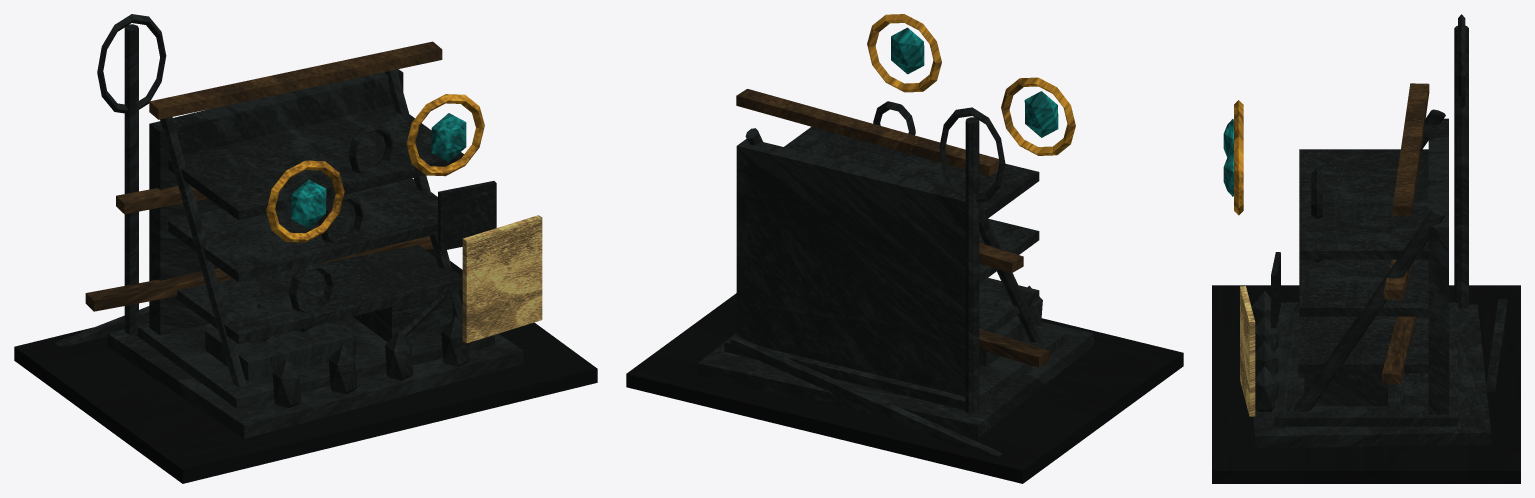
Rendered from east-stack-ruin.glb.
The picture shows the model from 3 angles, left to right: view 1: azimuth 30°, elevation 25°; view 2: azimuth 150°, elevation 25°; view 3: azimuth 270°, elevation 25°; orthographic projection. The views are drawn at different scales.
Visible parts, largest first — view 1: east-stack-ruin; view 2: east-stack-ruin; view 3: east-stack-ruin.
Part boxes in pixels (x1=…): east-stack-ruin: x1=14, y1=14, x2=597, y2=483; east-stack-ruin: x1=626, y1=14, x2=1183, y2=483; east-stack-ruin: x1=1212, y1=14, x2=1520, y2=483.
Size of the model in its own units: 7.4 by 5.96 by 5.2.
1 material, 1 textured.
